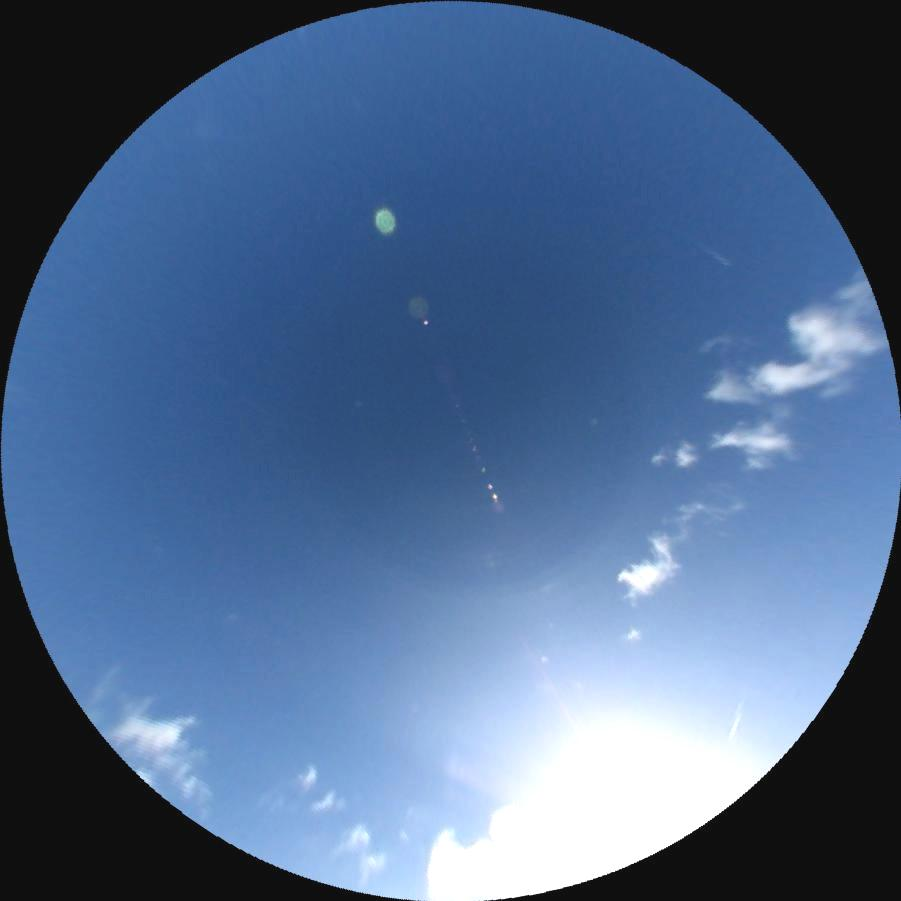contrail young: (673, 223, 732, 269), (727, 685, 749, 738)
parasite: (519, 636, 606, 777)
sun: (560, 726, 728, 882)
